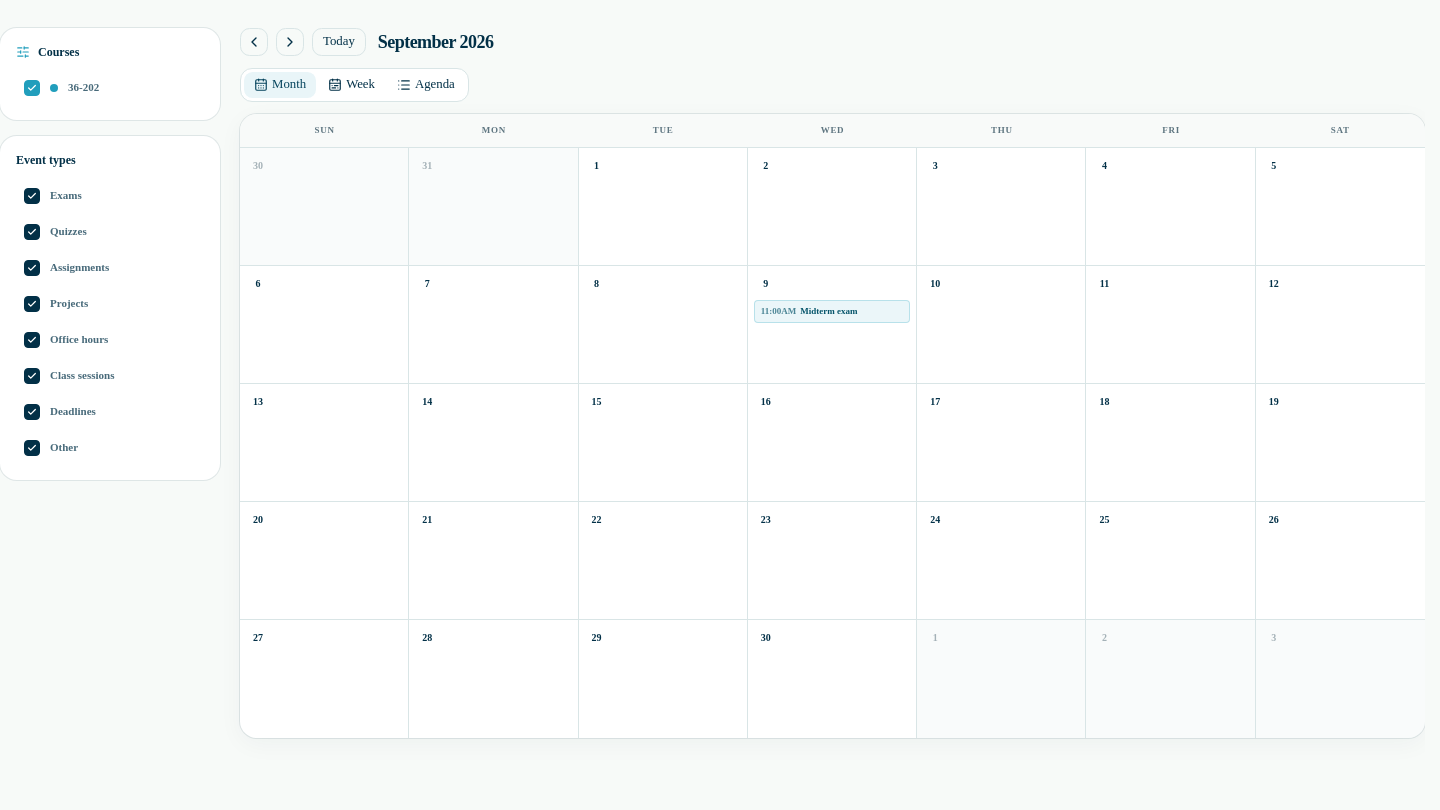
it: CalendarWorkspace weekly view › shows a seven-day week and moves the cursor one week at a time
Click the button "Week" at {"x": 352, "y": 85}, box 317,71 -> 386,99
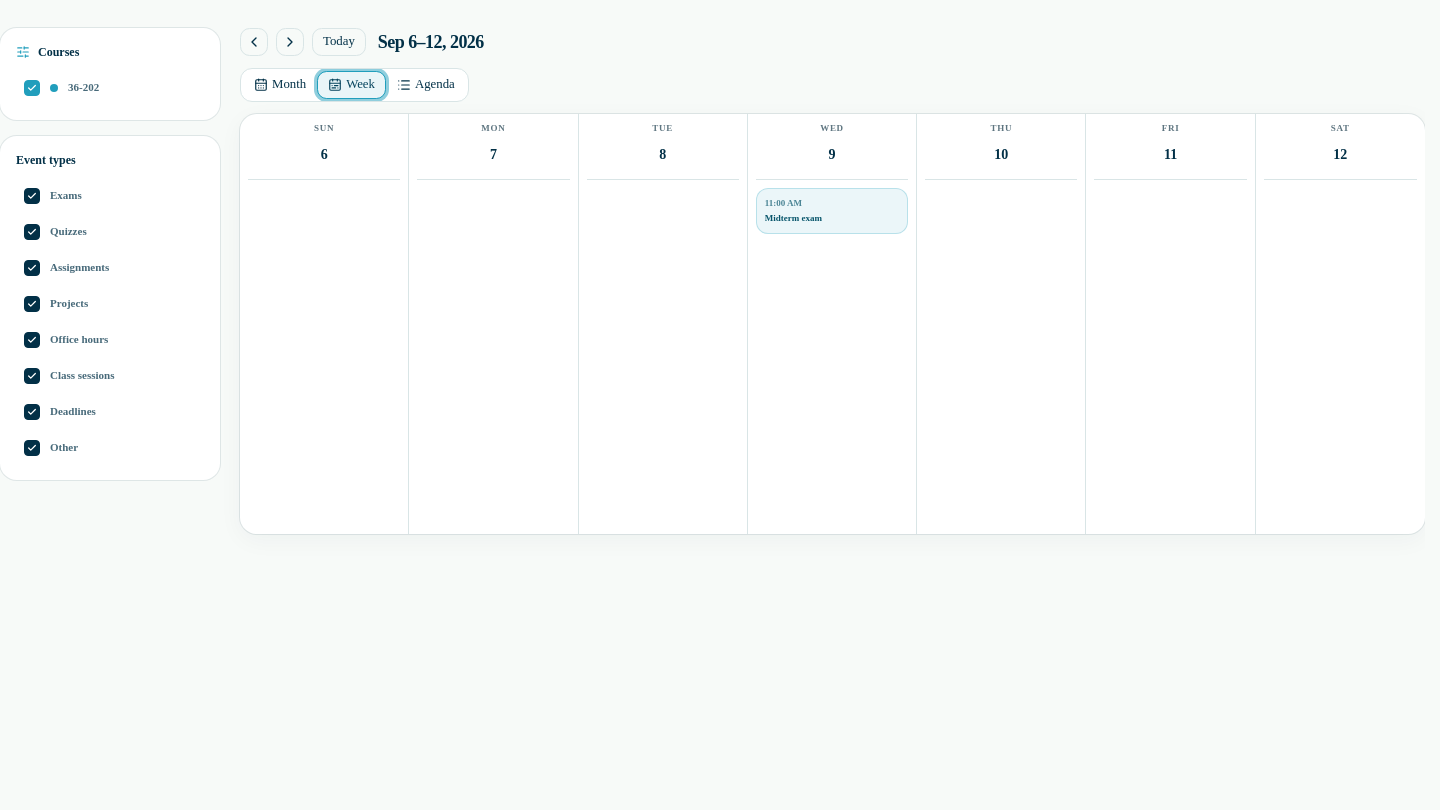
Expected: the button "11:00 AM Midterm exam" is shown, 756,188 -> 908,234
Now the heading "Sep 6–12, 2026" is shown, box 378,28 -> 484,56
Click the button named "Next week" at {"x": 290, "y": 42}, box 276,28 -> 304,56
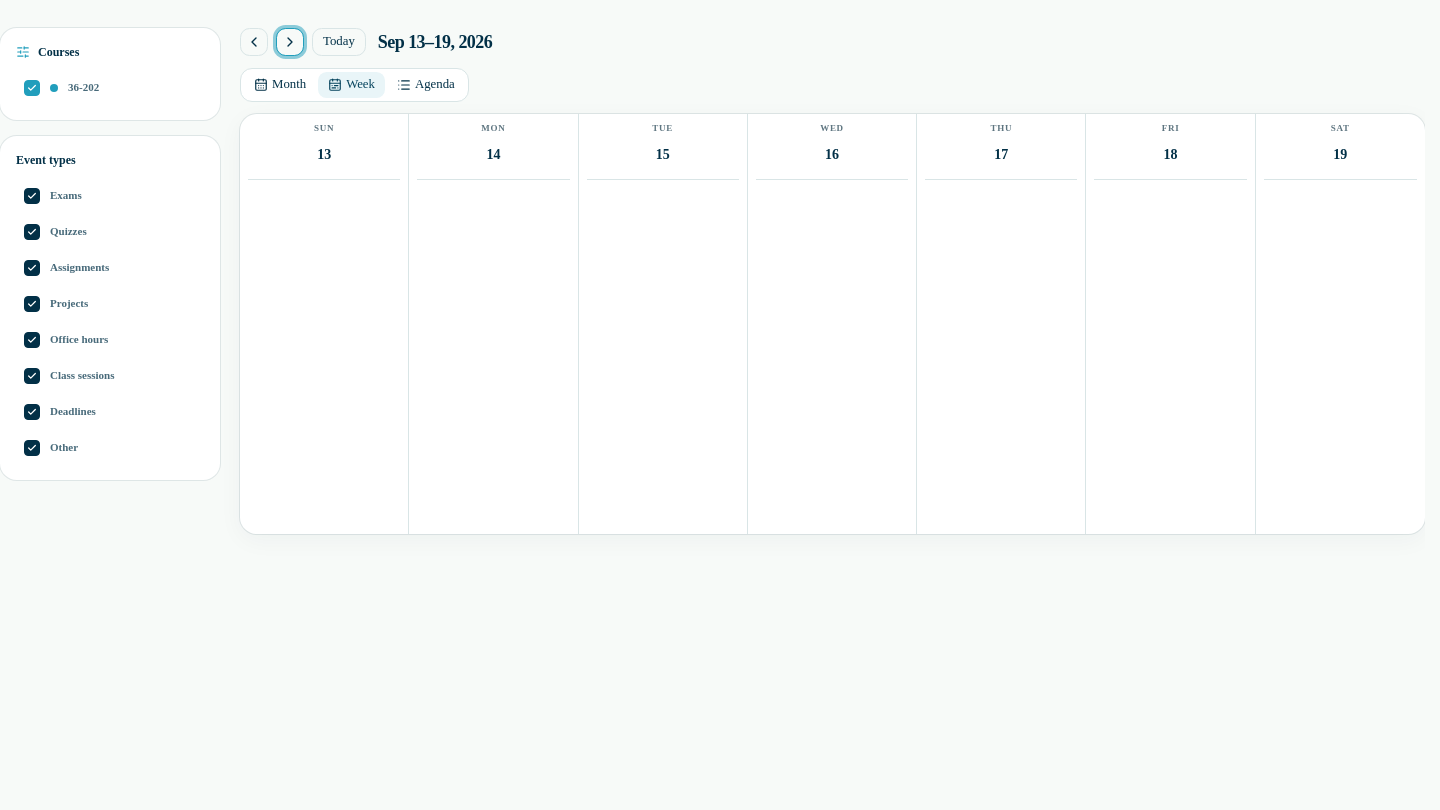
Now the heading "Sep 13–19, 2026" is shown, box 378,28 -> 492,56
Now the button "Midterm exam" is gone
